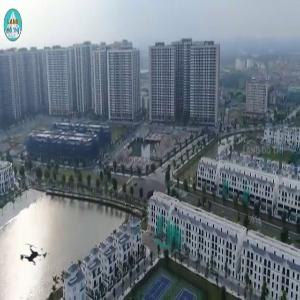drone: (8, 229, 61, 282)
